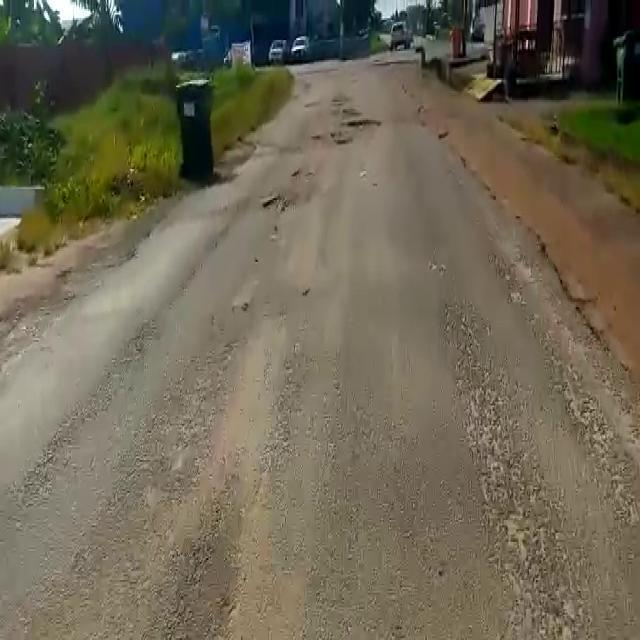pothole: (258, 192, 302, 215), (341, 113, 379, 128)
